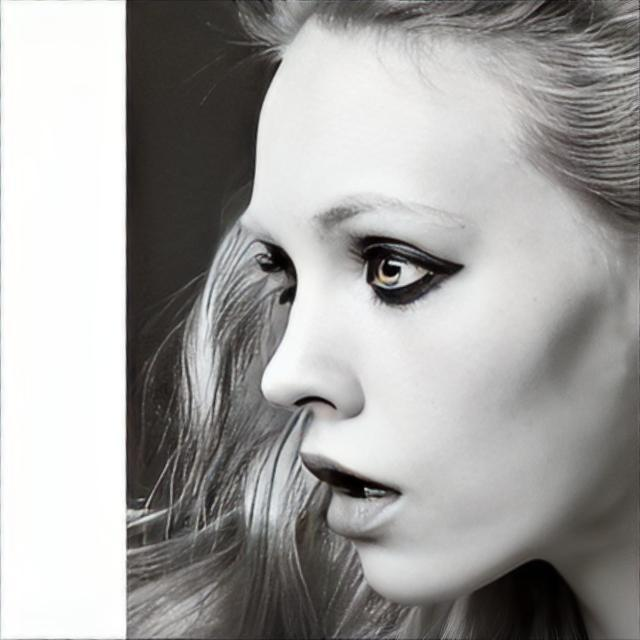neutral: (236, 0, 640, 611)
